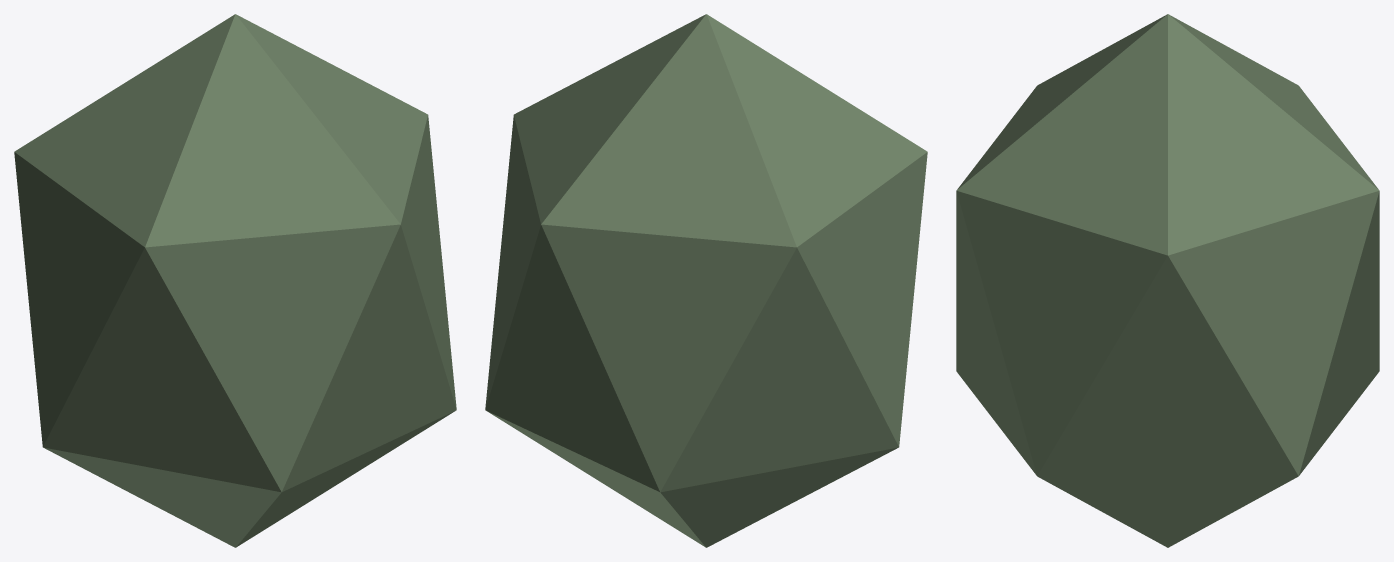
Rendered from terrain-tree-lod2.79a6a2f0be48.glb.
The picture shows the model from 3 angles, left to right: view 1: azimuth 30°, elevation 25°; view 2: azimuth 150°, elevation 25°; view 3: azimuth 270°, elevation 25°; orthographic projection.
Visible parts, largest first — view 1: body; view 2: body; view 3: body.
Part boxes in pixels (bbox=[...]): body: bbox=[14, 14, 456, 547]; body: bbox=[485, 14, 927, 547]; body: bbox=[956, 14, 1379, 547].
Bounding box in the file's own units: 0.6798 × 0.9 × 0.6465.
